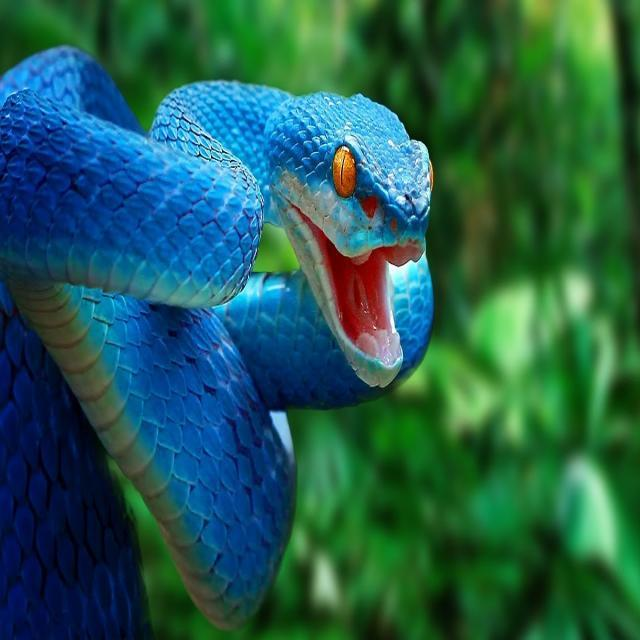Snake: (0, 37, 460, 639)
